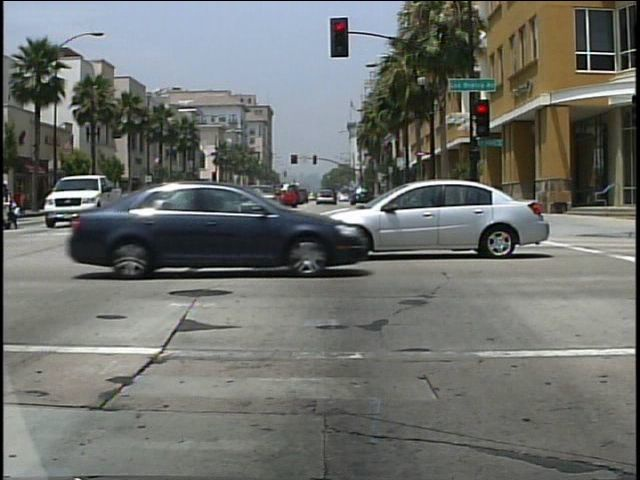person: (1, 180, 25, 231)
